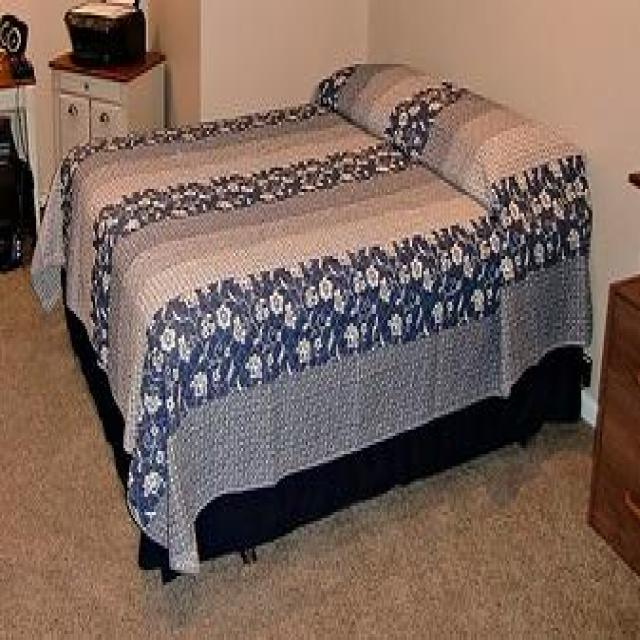bed: (61, 63, 594, 596)
